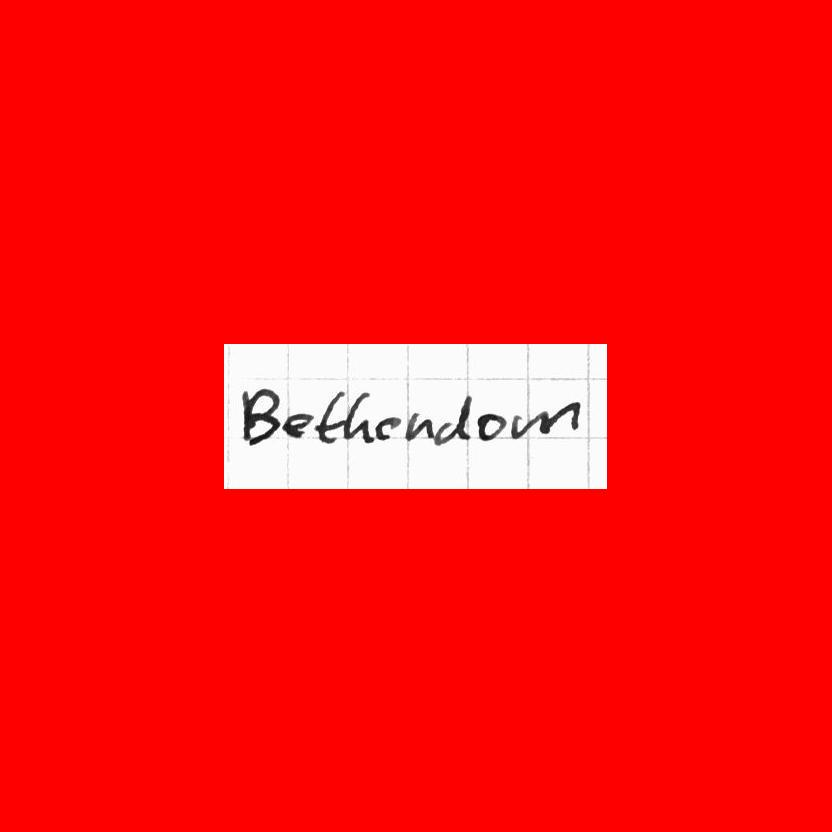Char: (508, 399, 584, 438), (239, 386, 279, 442), (435, 392, 471, 442), (314, 388, 344, 445), (344, 394, 372, 443), (405, 408, 433, 443), (476, 410, 505, 442), (281, 409, 312, 438), (374, 414, 400, 441)
